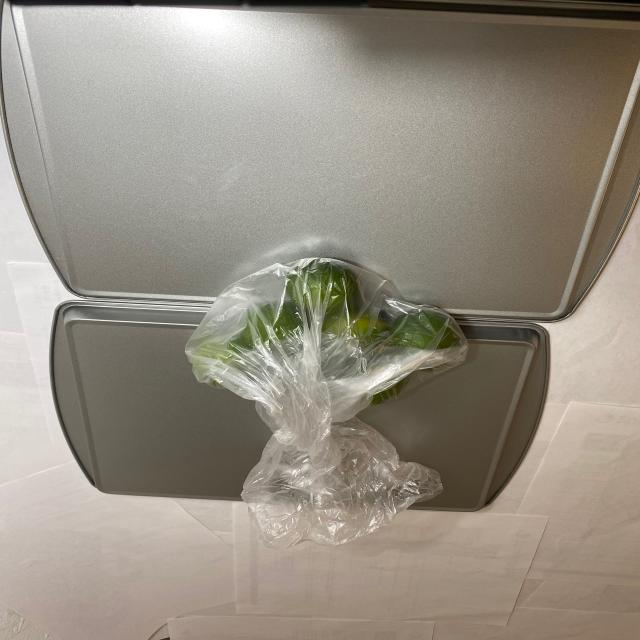lemon: (188, 258, 467, 402)
